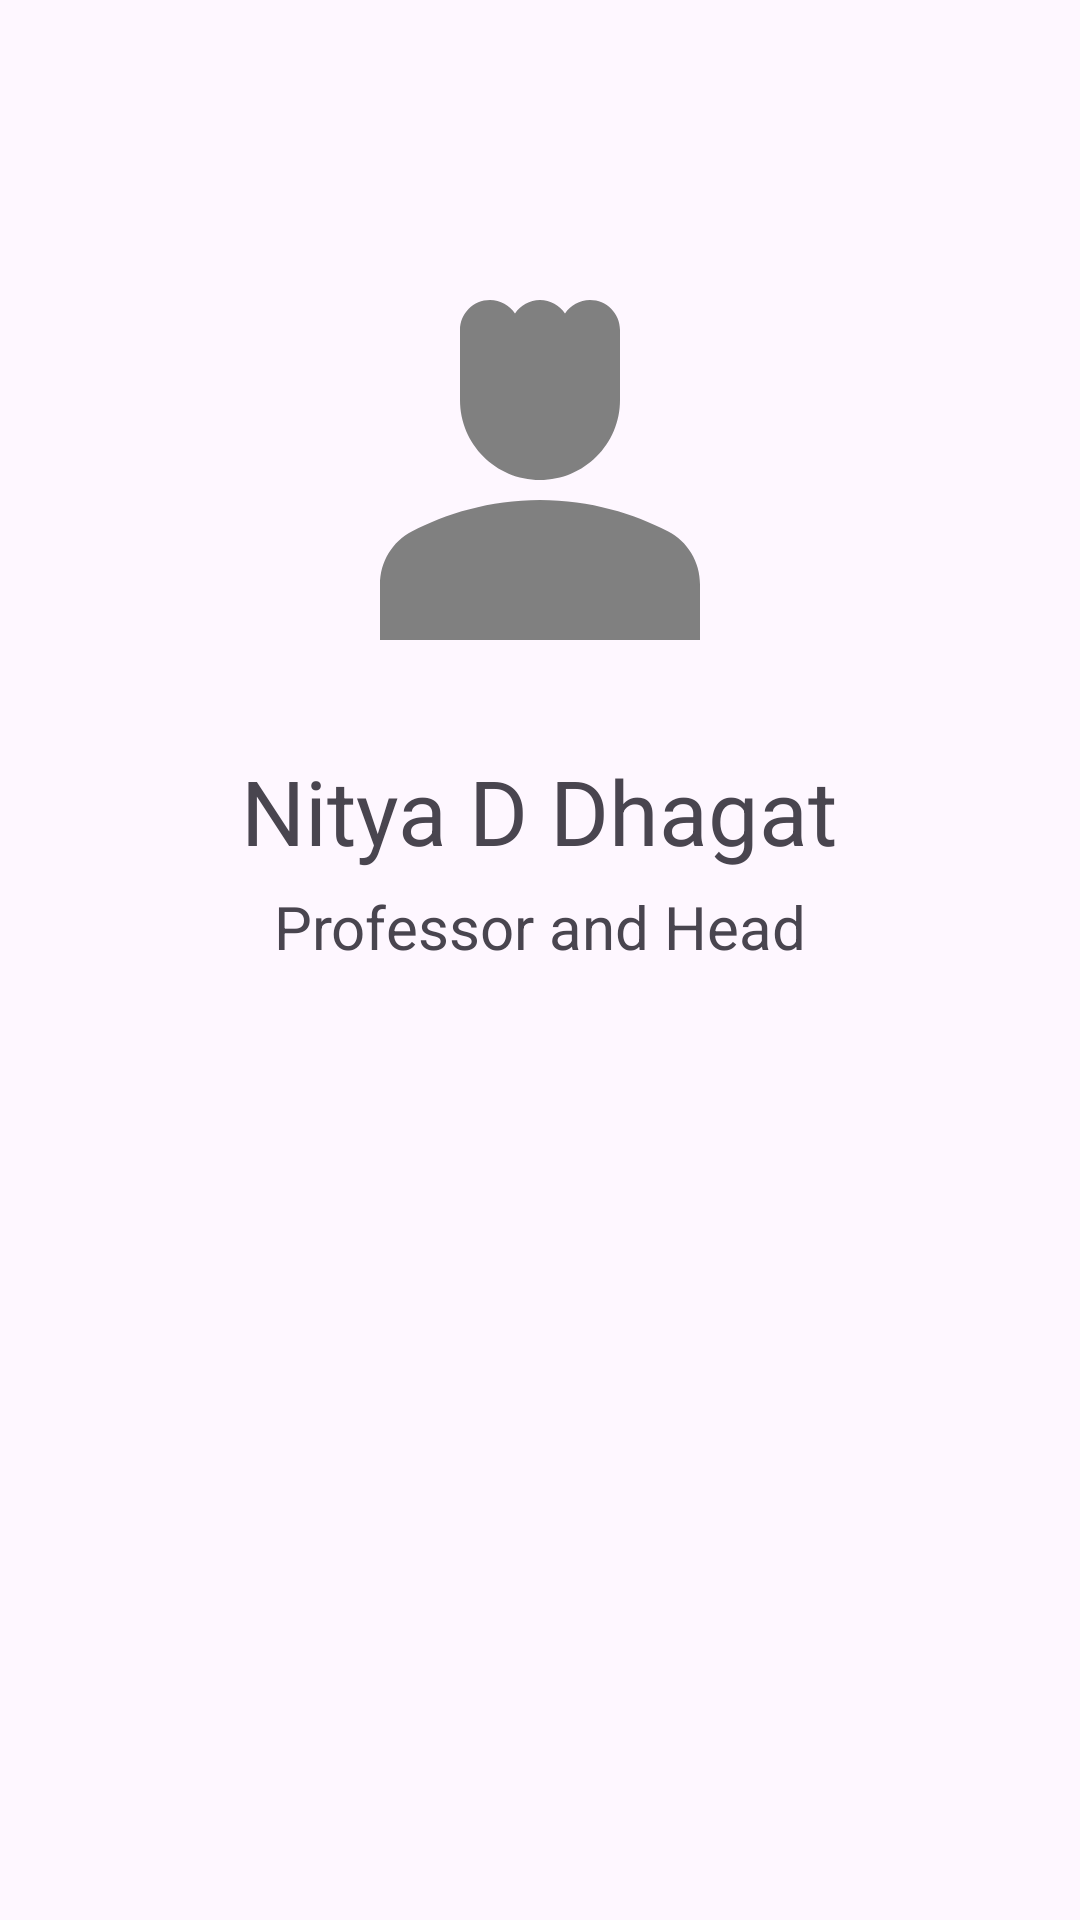

Icons on this 1080x1920 Android screen, each with the point to tap as point (x, y):
faculty: point (540, 470)
